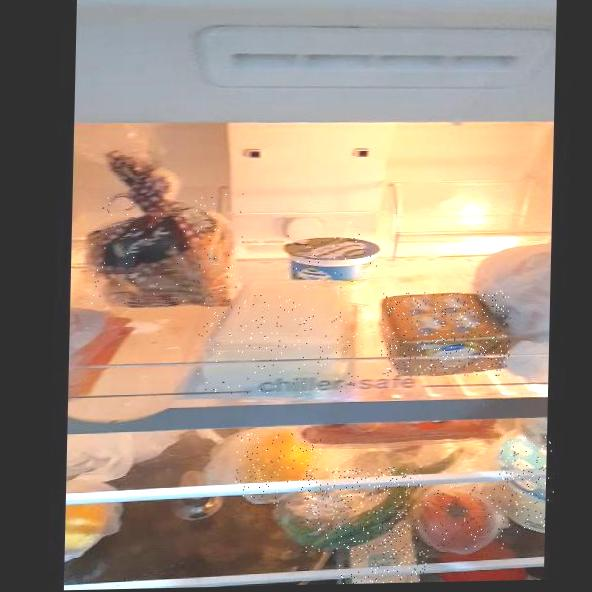bread: (89, 193, 245, 305)
butter: (380, 290, 511, 378)
cheese: (197, 290, 362, 395)
green chilies: (304, 466, 424, 554)
lemon: (235, 432, 322, 507)
milk: (338, 546, 429, 584)
tomato: (410, 485, 507, 554)
yoghurt: (498, 434, 555, 536), (283, 233, 382, 290)
